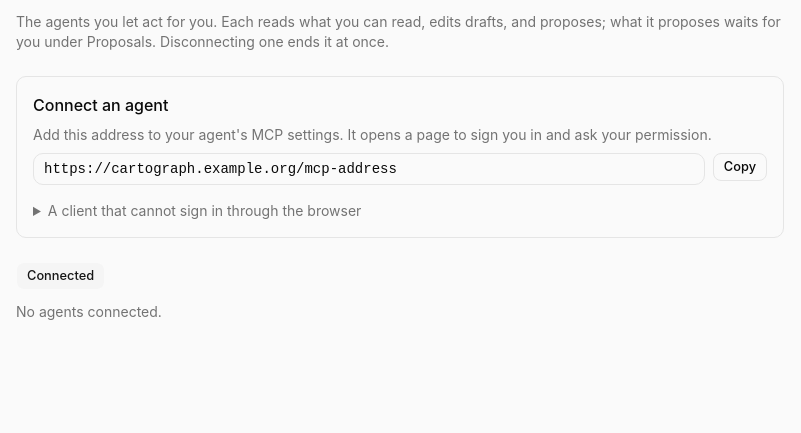
Test: agents › say so where the deployment's own sign-in authorizes agents
The image size is (801, 433).
Step 1. Click the heading "A client that cannot sign in through the browser" → (205, 210), box [48, 202, 361, 219]
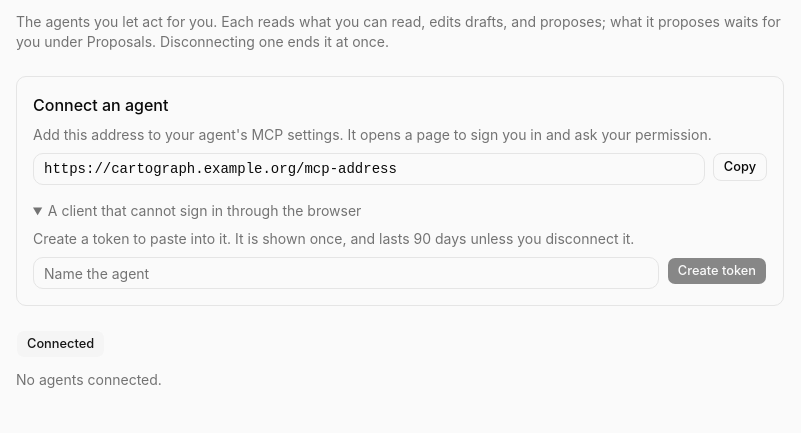
Step 2. Type "A script" into the field labelled "Name the agent" → (346, 273), box [33, 257, 659, 289]
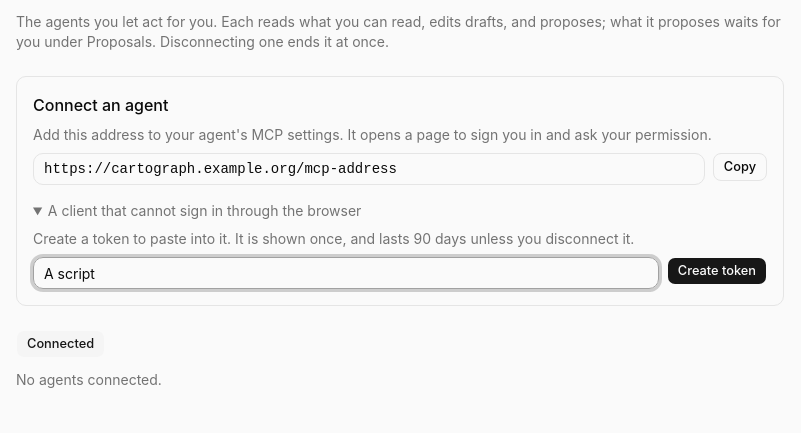
Step 3. Click the button "Create token" → (717, 271), box [667, 257, 767, 285]
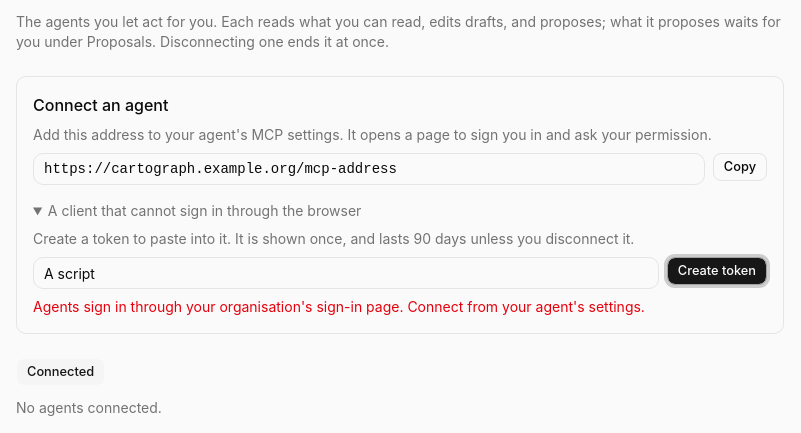
Check: the text "Agents sign in through your organisation's sign-in page. Connect from your agent's settings." is shown, box [33, 298, 645, 315]
